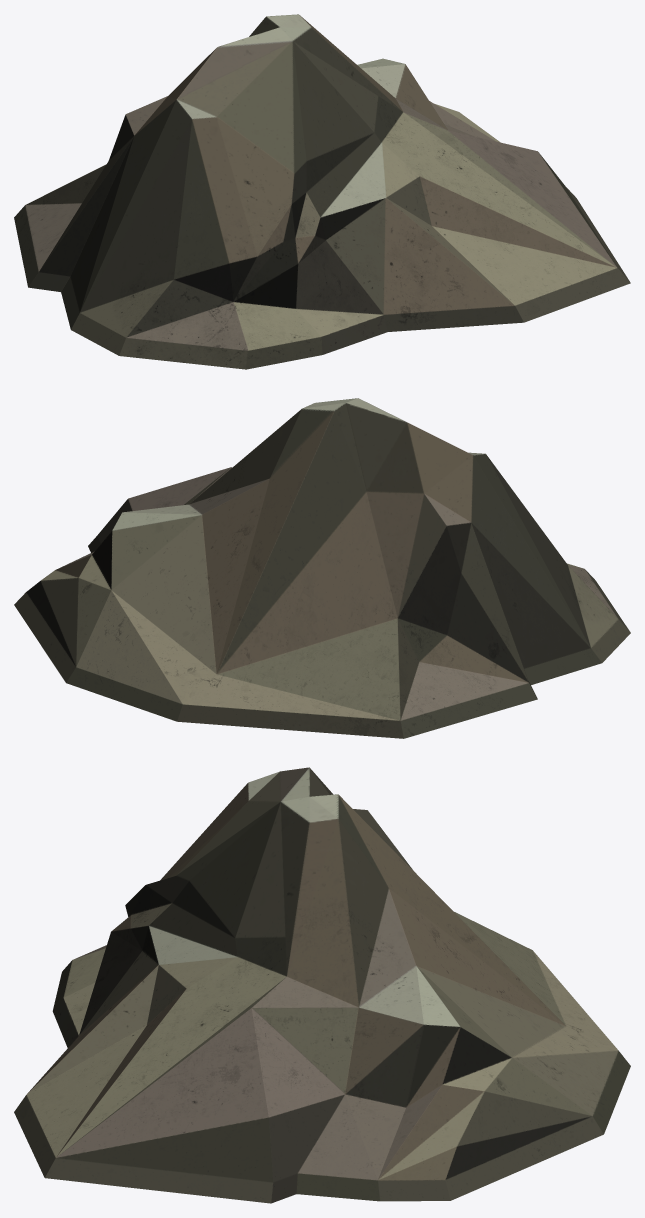
File: mountain.glb
The picture shows the model from 3 angles, top to bottom: view 1: azimuth 30°, elevation 25°; view 2: azimuth 150°, elevation 25°; view 3: azimuth 270°, elevation 25°; orthographic projection. The views are drawn at different scales.
Parts seen in each view (by area): view 1: mountain_1.1; view 2: mountain_1.1; view 3: mountain_1.1.
Part boxes in pixels (x1,y1,x2,y2): mountain_1.1: [14, 14, 630, 369]; mountain_1.1: [14, 398, 630, 738]; mountain_1.1: [14, 767, 630, 1203].
Size of the model in its own units: 1.39 by 0.5888 by 1.29.
Materials: 1 (1 with a texture image).
